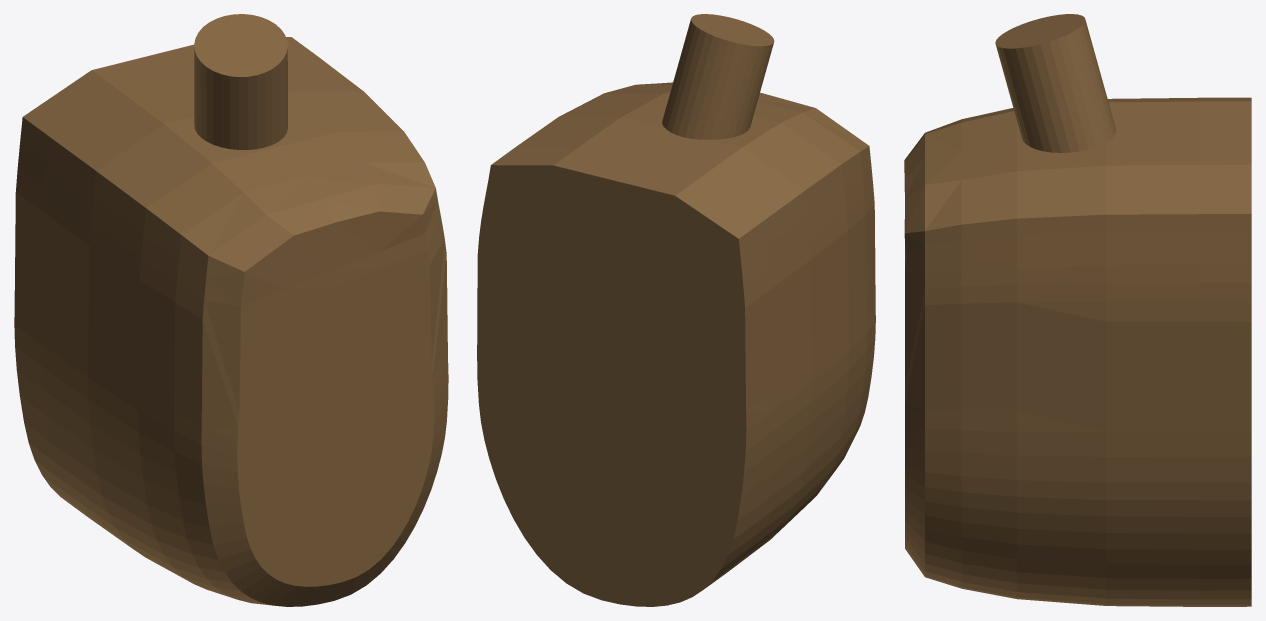
The model's file is RAy_joint_visu.dae.
3 renders of one model, left to right at view 1: azimuth 30°, elevation 25°; view 2: azimuth 150°, elevation 25°; view 3: azimuth 270°, elevation 25°, orthographic. The views are drawn at different scales.
Parts seen in each view (by area): view 1: node; view 2: node; view 3: node.
Boxes of the visible parts, x1,y1,x2,y2 form: node: (14, 14, 448, 606); node: (477, 14, 875, 606); node: (904, 14, 1251, 606).
Bounding box in the file's own units: 0.0378 × 0.0695 × 0.039.
